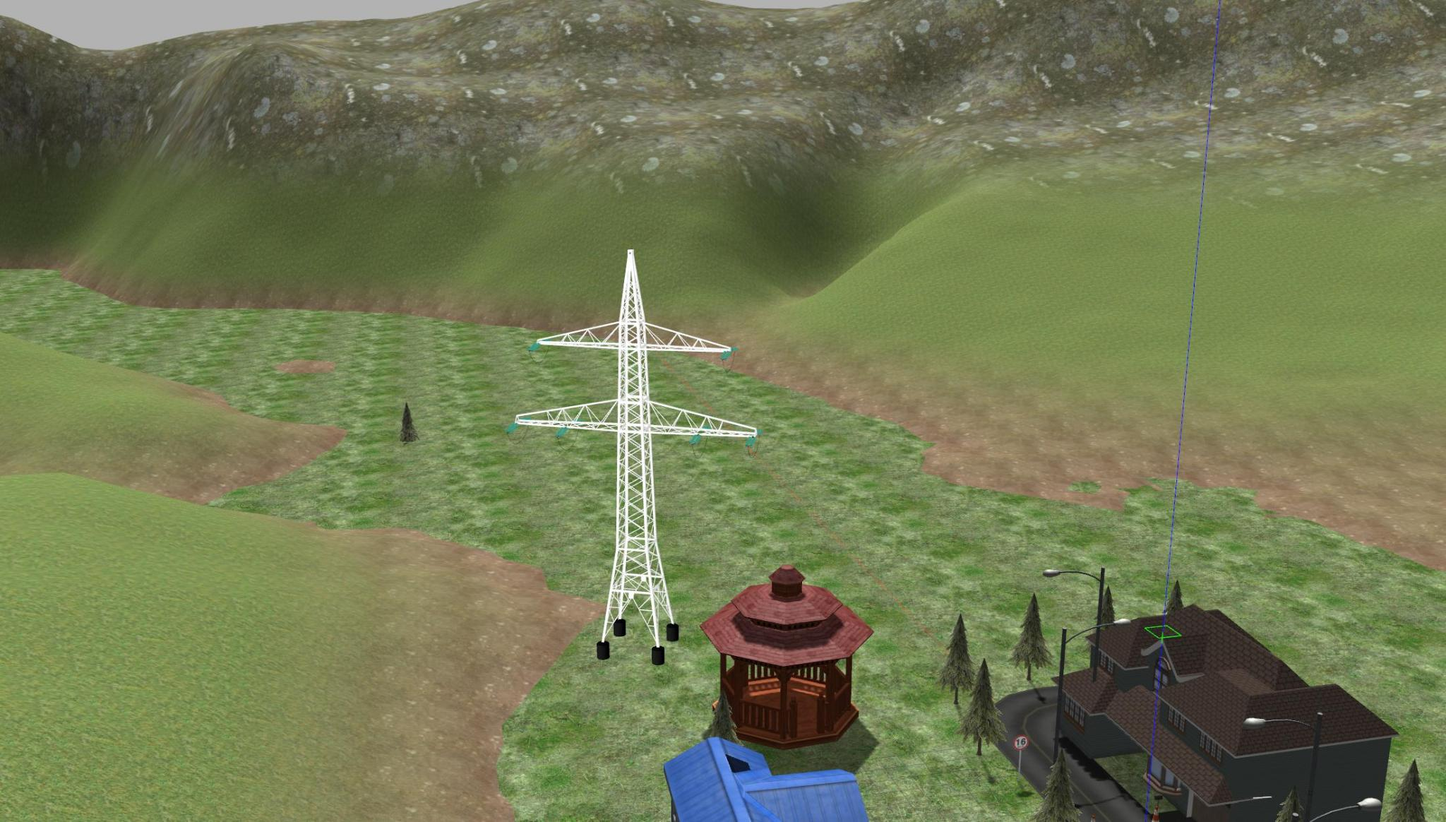tower: (518, 250, 757, 635)
